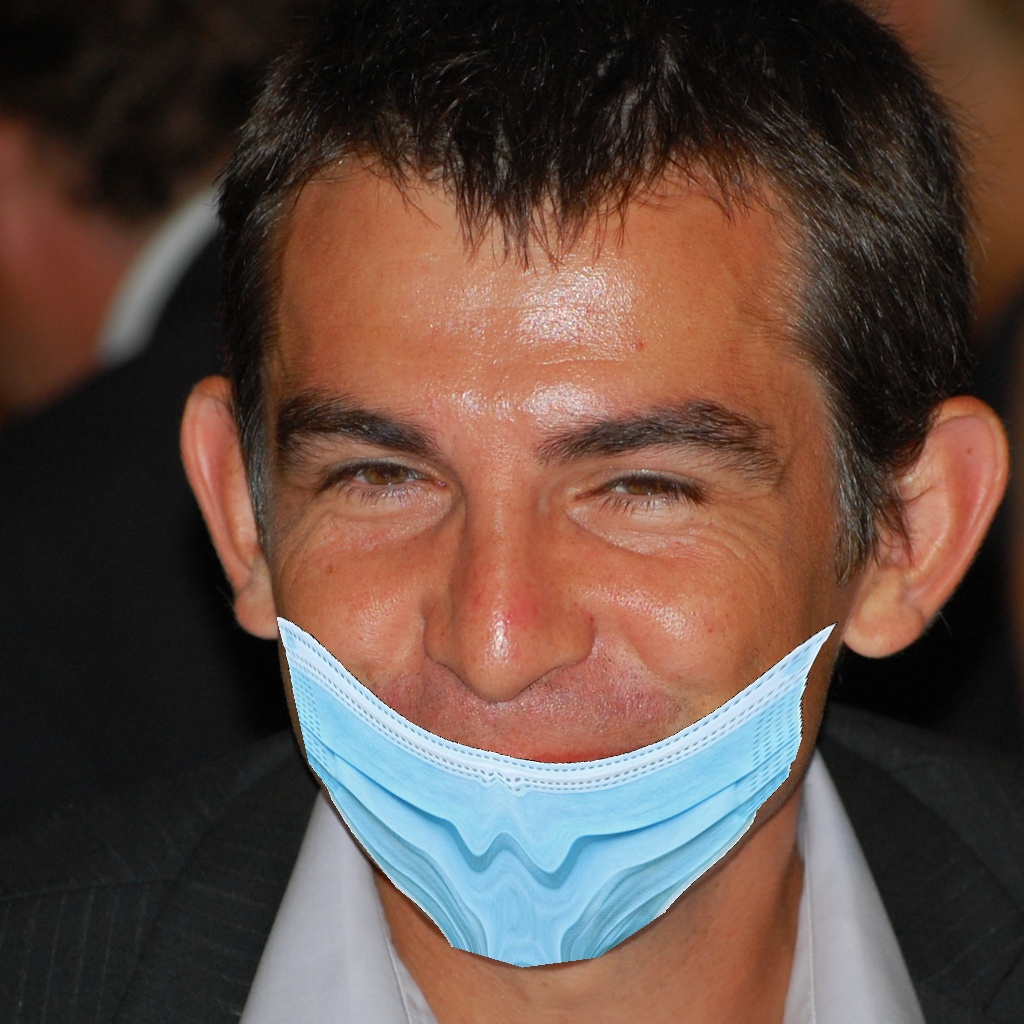mascarilla_mal_puesta: (197, 343, 982, 988)
